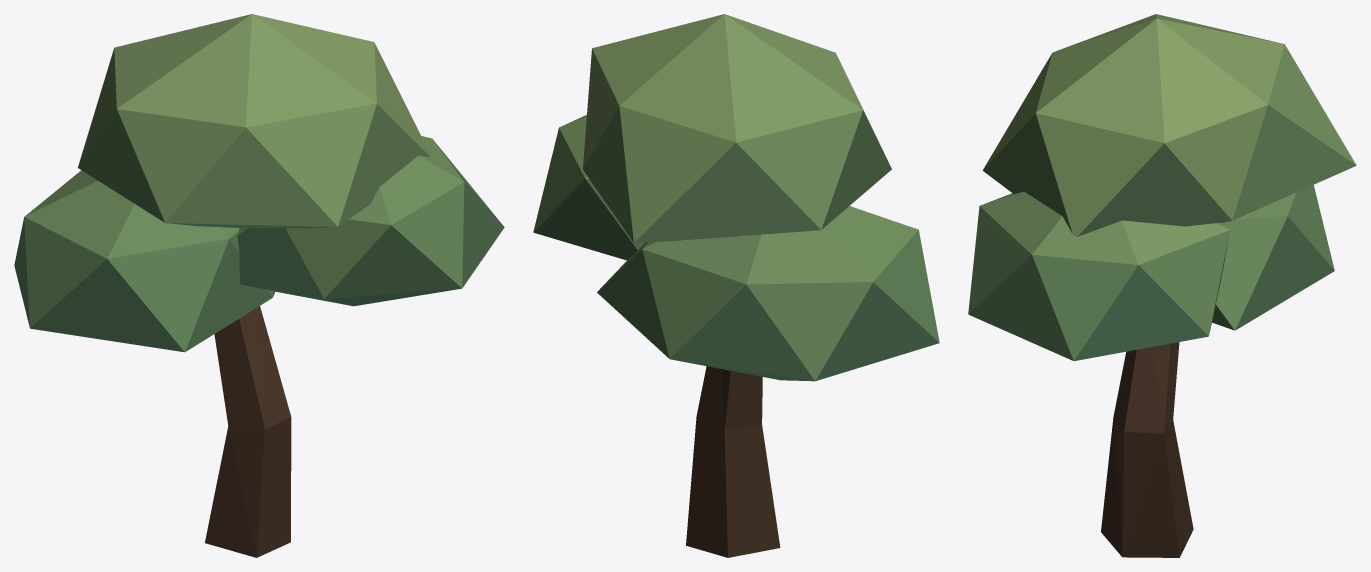
File: prop_tree_broadleaf.glb
3 renders of one model, left to right at view 1: azimuth 30°, elevation 25°; view 2: azimuth 150°, elevation 25°; view 3: azimuth 270°, elevation 25°, orthographic.
Visible parts, largest first — view 1: prop_tree_broadleaf; view 2: prop_tree_broadleaf; view 3: prop_tree_broadleaf.
Boxes of the visible parts, left/top/right/bottom form: prop_tree_broadleaf: left=14, top=14, right=504, bottom=557; prop_tree_broadleaf: left=533, top=14, right=939, bottom=557; prop_tree_broadleaf: left=968, top=14, right=1356, bottom=557.
Bounding box in the file's own units: 0.9031 × 1.05 × 0.7007.
